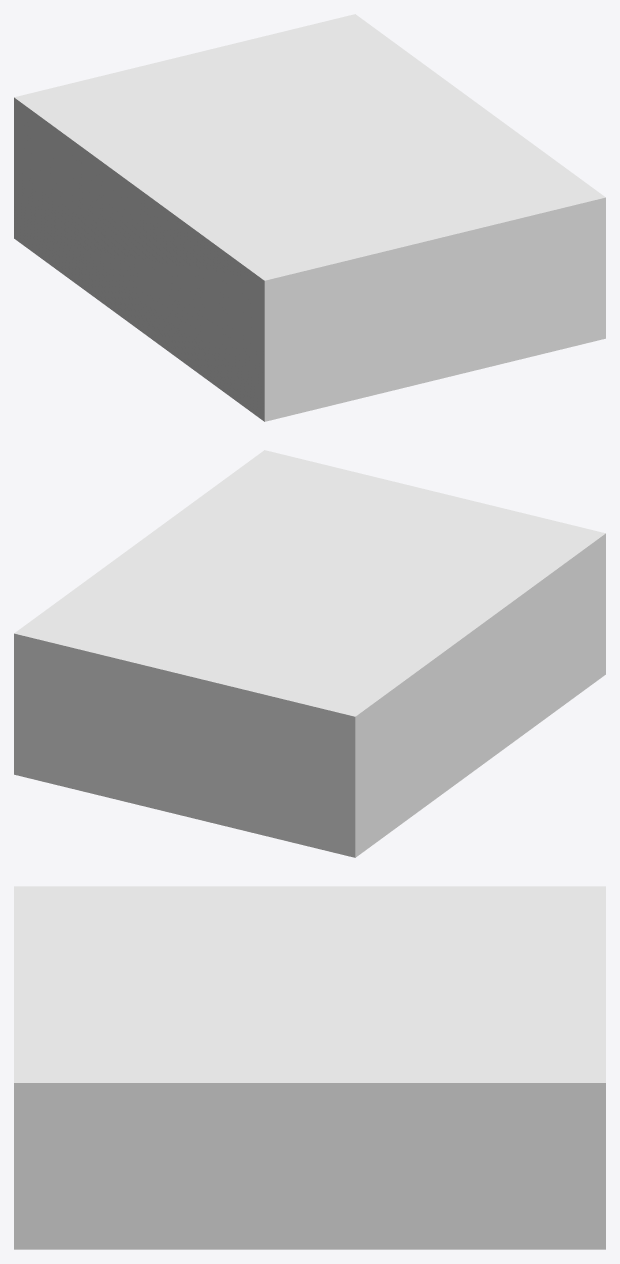
3 views of the same model, one above another, from view 1: azimuth 30°, elevation 25°; view 2: azimuth 150°, elevation 25°; view 3: azimuth 270°, elevation 25° (orthographic). The views are drawn at different scales.
Parts seen in each view (by area): view 1: Cube.001; view 2: Cube.001; view 3: Cube.001.
Part boxes in pixels (x1,y1,x2,y2): Cube.001: (14, 14, 605, 421); Cube.001: (14, 450, 605, 857); Cube.001: (14, 886, 605, 1249).
Bounding box in the file's own units: 8.43 × 3.33 × 10.72.
Materials: 3 (2 with a texture image).
